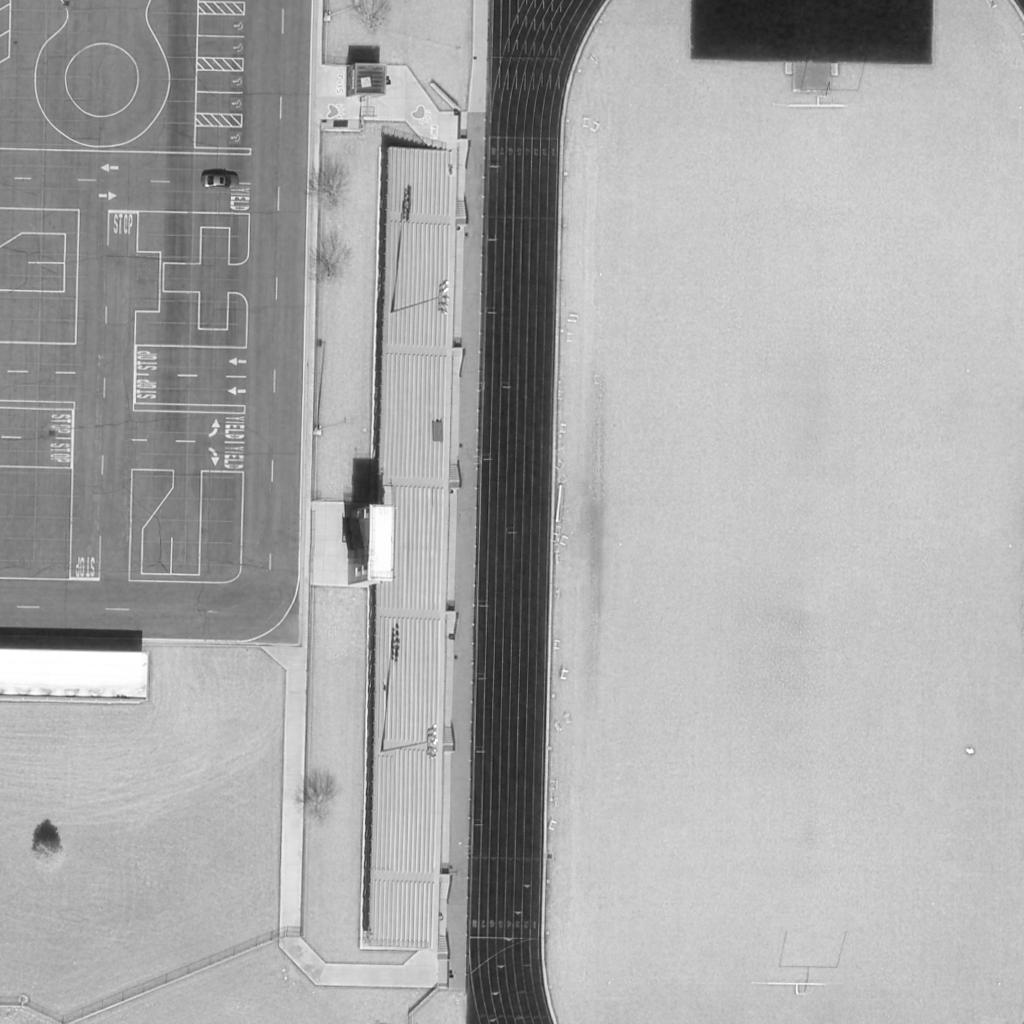vehicle: (203, 174, 239, 188)
